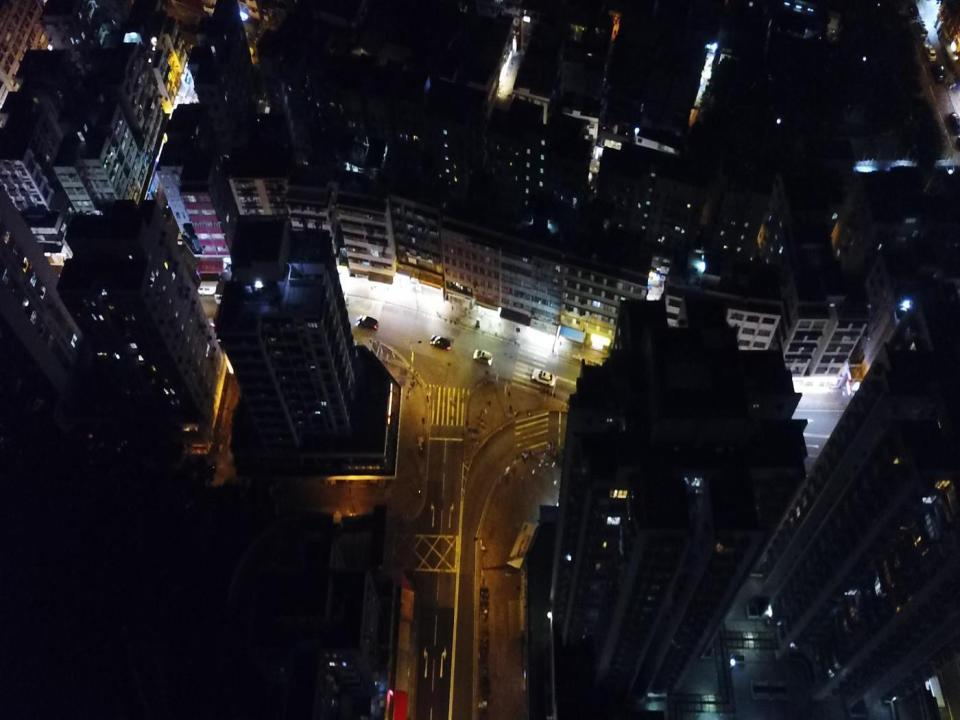car: (531, 367, 555, 386), (355, 313, 379, 331), (472, 348, 493, 366), (429, 334, 451, 350)
van: (196, 281, 220, 296)
